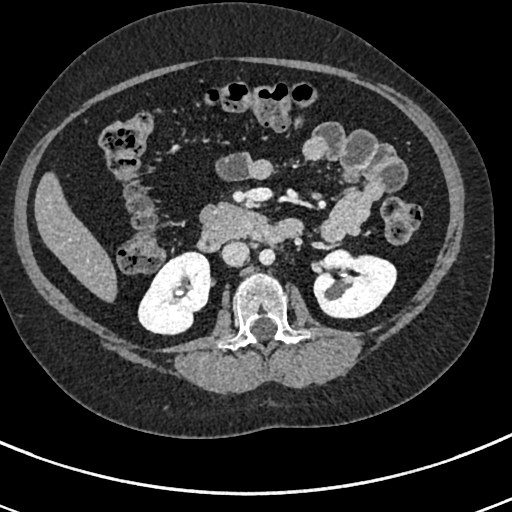Lesion: (322, 280, 349, 304)
